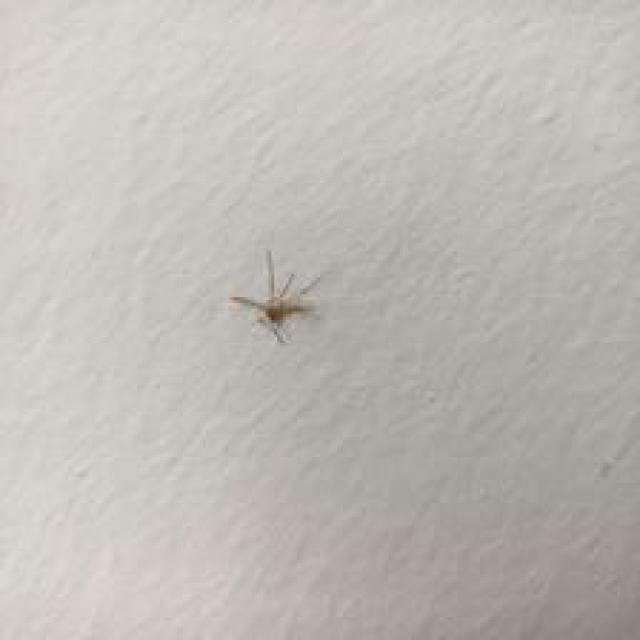Culex: (228, 247, 323, 344)
